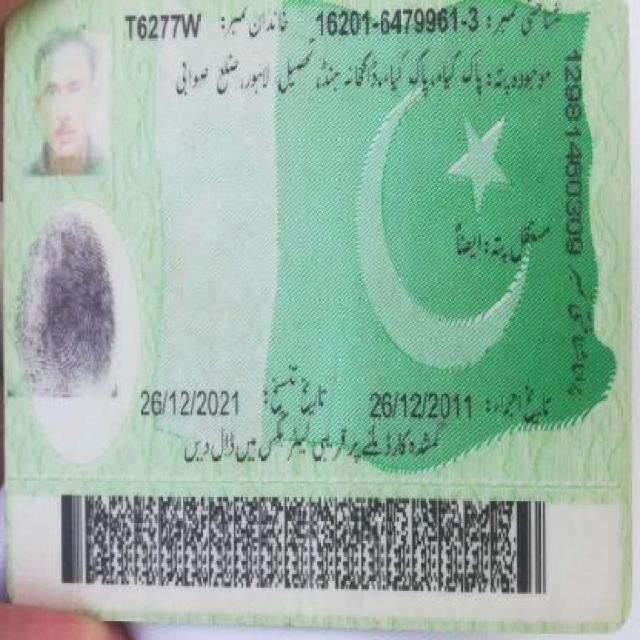Back: (11, 0, 618, 620)
